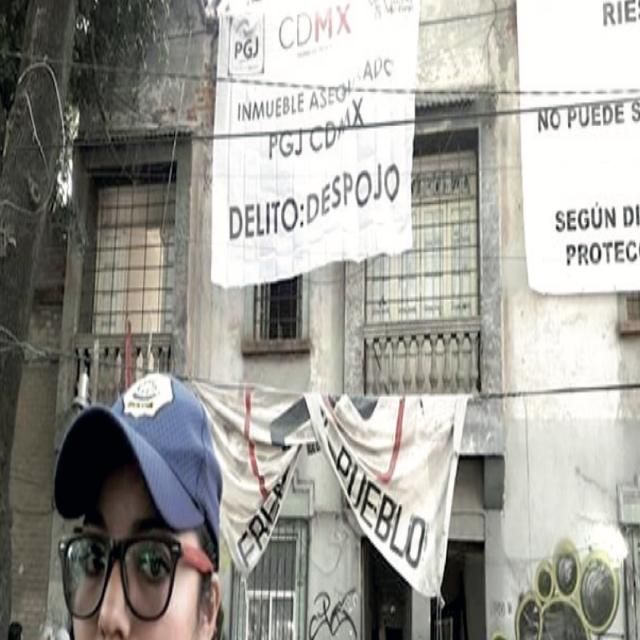stamps: (213, 7, 415, 279)
